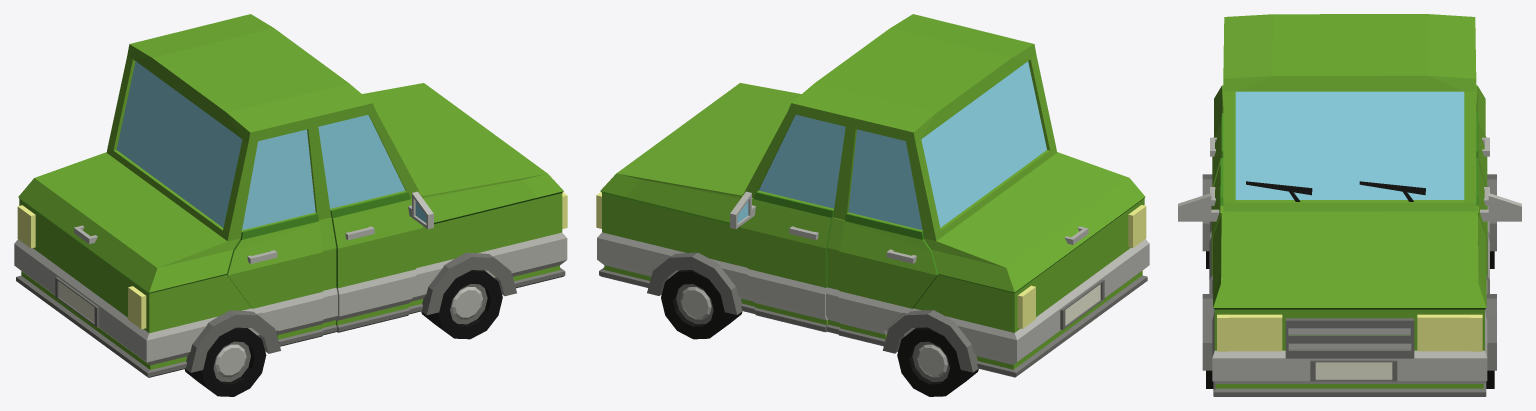
File: CarGreen.fbx
3 renders of one model, left to right at view 1: azimuth 30°, elevation 25°; view 2: azimuth 150°, elevation 25°; view 3: azimuth 270°, elevation 25°, orthographic. The views are drawn at different scales.
Visible parts, largest first — view 1: Cube.8231; view 2: Cube.8231; view 3: Cube.8231.
Boxes of the visible parts, x1,y1,x2,y2 form: Cube.8231: (14, 14, 567, 396); Cube.8231: (596, 14, 1149, 396); Cube.8231: (1178, 14, 1521, 396).
Bounding box in the file's own units: 482 × 276 × 325.
Materials: 1 (1 with a texture image).
